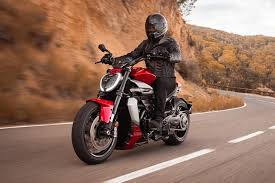motorcycle: (71, 43, 193, 167)
